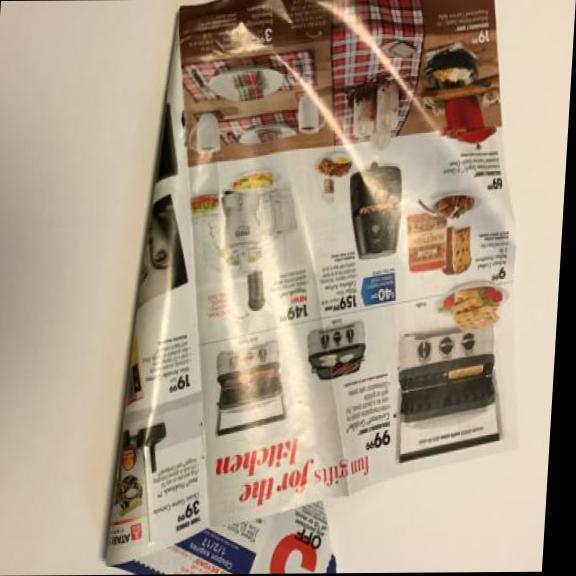Kertas: (93, 0, 538, 574)
